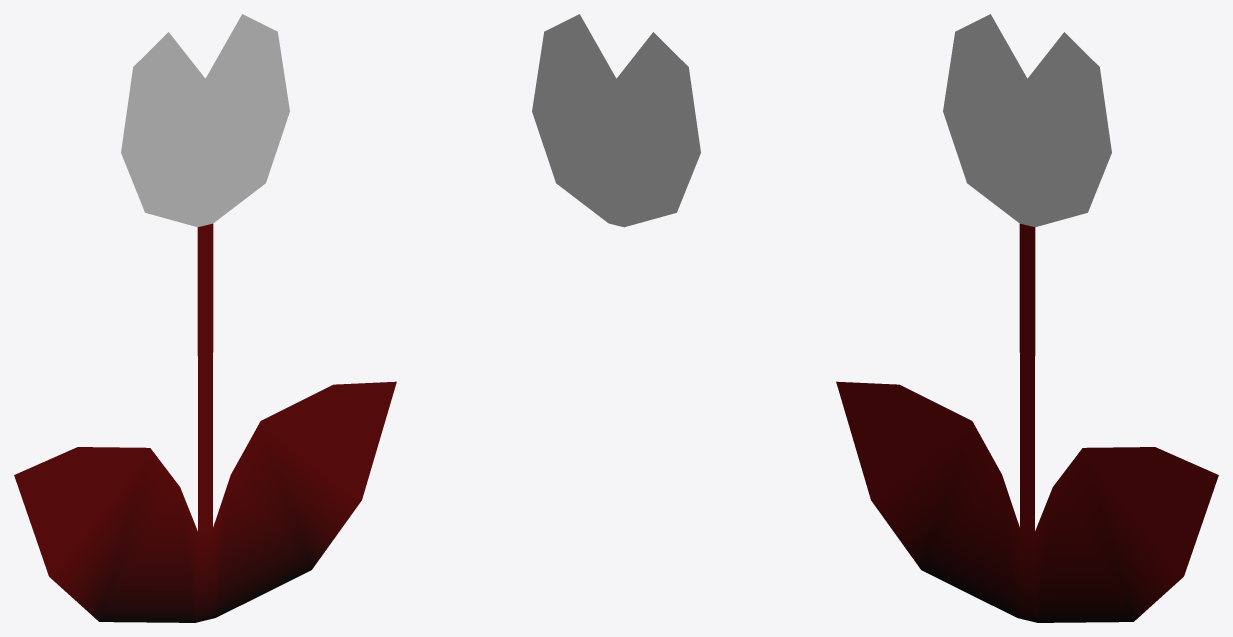
Rendered from Flower02.fbx.
3 views of the same model, side by side, from view 1: azimuth 30°, elevation 25°; view 2: azimuth 150°, elevation 25°; view 3: azimuth 330°, elevation 25° (orthographic).
Visible parts, largest first — view 1: Flower02_Leaf, Flower02_Pebble; view 2: Flower02_Pebble; view 3: Flower02_Leaf, Flower02_Pebble.
Boxes of the visible parts, x1,y1,x2,y2 form: Flower02_Leaf: (14,223,396,622); Flower02_Pebble: (121,14,289,227); Flower02_Pebble: (532,14,700,227); Flower02_Leaf: (836,223,1218,622); Flower02_Pebble: (943,14,1111,227).
Size of the model in its own units: 0.2792 by 0.4165 by 5.62e-06.
